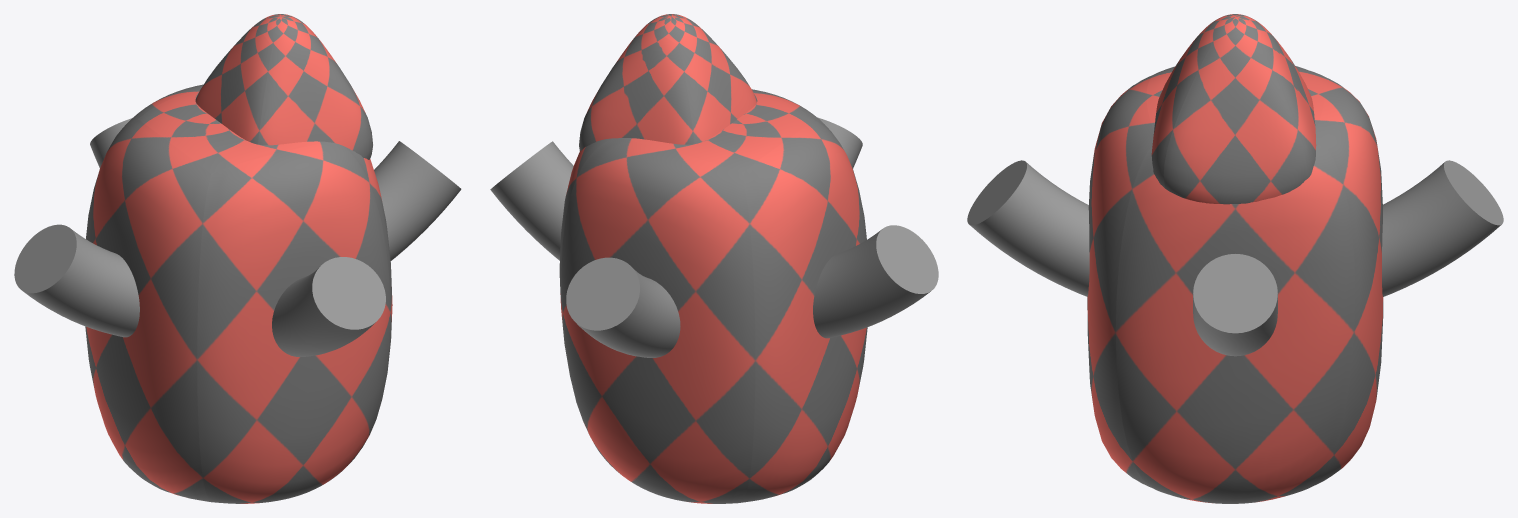
File: Body(Oblong)+Colour(More_Red)+Pattern(Diamond)+Arm_Angle(Bent_Up)+Hat(Pyramidal).fbx
3 renders of one model, left to right at view 1: azimuth 30°, elevation 25°; view 2: azimuth 150°, elevation 25°; view 3: azimuth 270°, elevation 25°, orthographic. The views are drawn at different scales.
Visible parts, largest first — view 1: Body(Oblong)+Colour(More_Red)+Pattern(Diamond)+Arm_Angle(Ben (×6); view 2: Body(Oblong)+Colour(More_Red)+Pattern(Diamond)+Arm_Angle(Ben (×6); view 3: Body(Oblong)+Colour(More_Red)+Pattern(Diamond)+Arm_Angle(Ben (×5).
Part boxes in pixels (x1=…): Body(Oblong)+Colour(More_Red)+Pattern(Diamond)+Arm_Angle(Ben (×6): x1=14, y1=14, x2=461, y2=503; Body(Oblong)+Colour(More_Red)+Pattern(Diamond)+Arm_Angle(Ben (×6): x1=490, y1=14, x2=938, y2=503; Body(Oblong)+Colour(More_Red)+Pattern(Diamond)+Arm_Angle(Ben (×5): x1=967, y1=14, x2=1503, y2=503.
Bounding box in the file's own units: 50.67 × 50 × 50.67.
2 materials, 1 textured.
